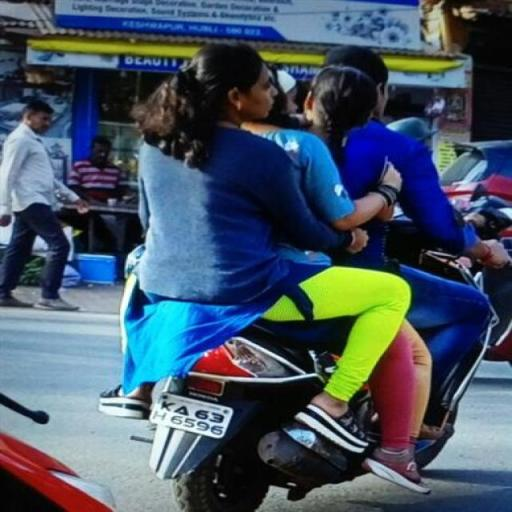tripple riding: (116, 39, 449, 290)
